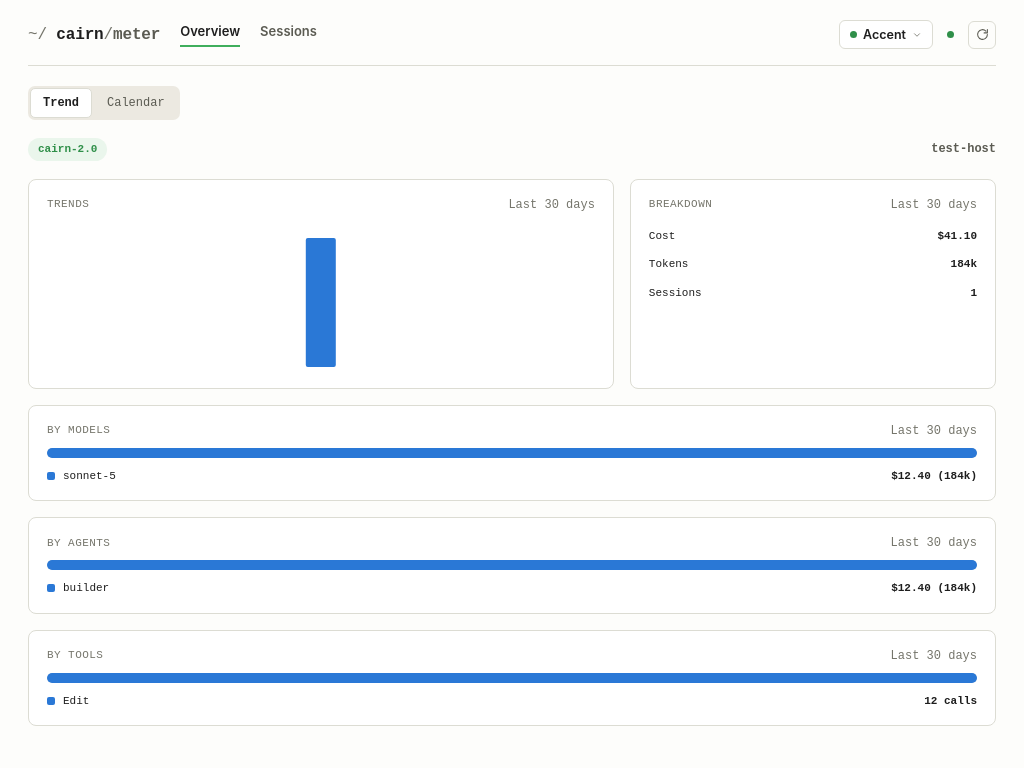
Overview › O1: switching to Calendar re-fetches every range-scoped panel at the 13w window
Expected: the element with test id "chart-bars" is shown, [47,222,595,372]
Click the text with test id "view-seg-calendar": (136, 103) [107,96,165,110]
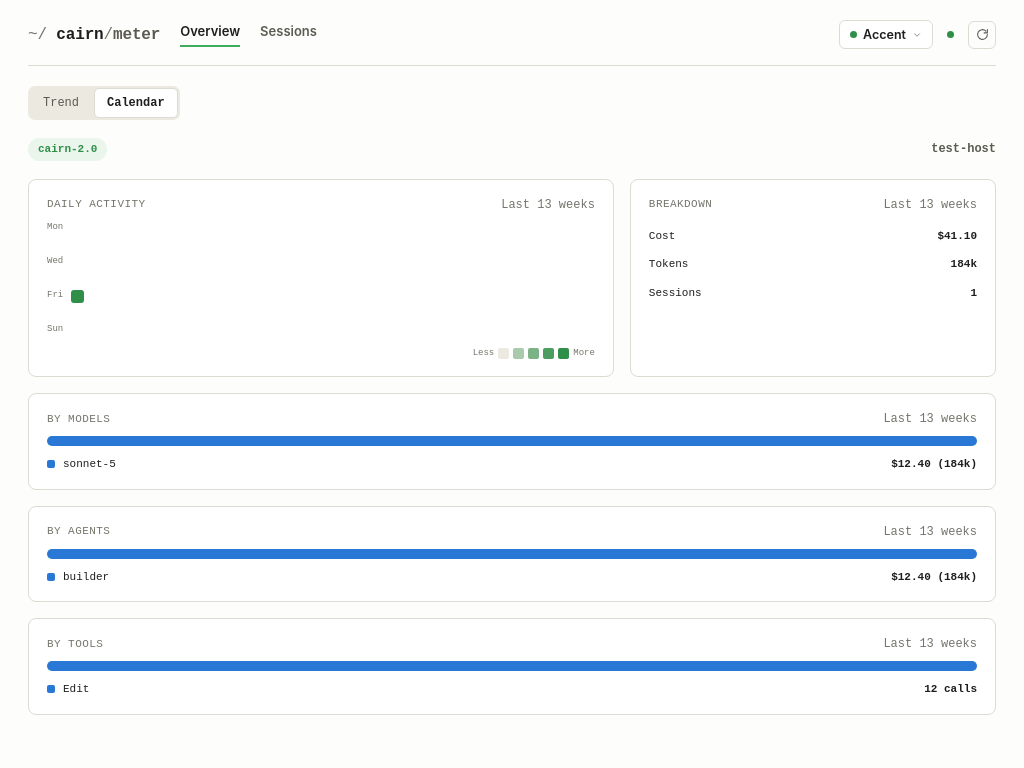
Expected: the element with test id "contribution-calendar" is shown, [47,222,595,360]
